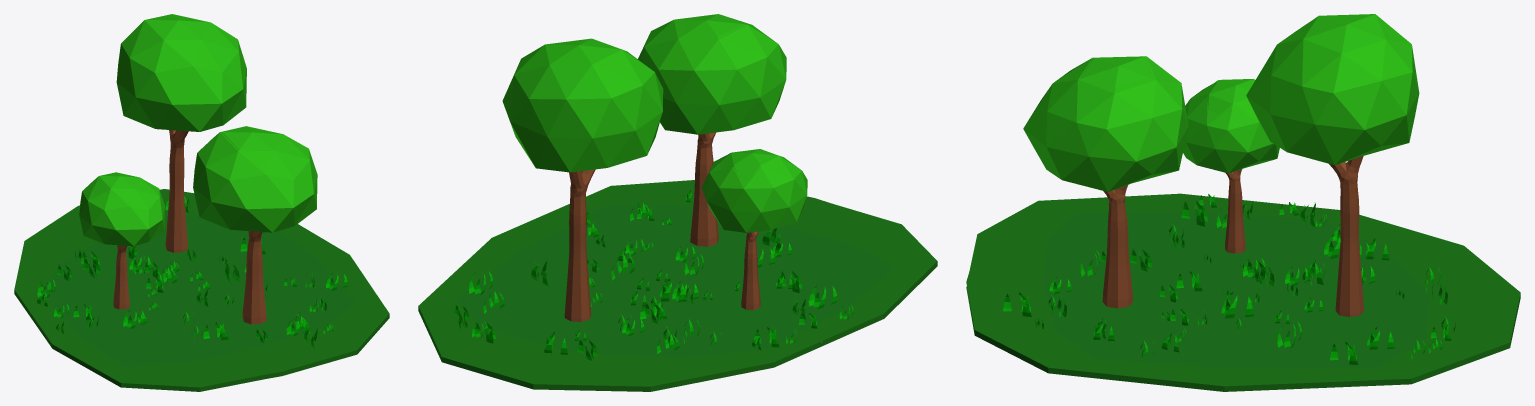
File: TreeGroup.glb
The picture shows the model from 3 angles, left to right: view 1: azimuth 30°, elevation 25°; view 2: azimuth 150°, elevation 25°; view 3: azimuth 270°, elevation 25°; orthographic projection. The views are drawn at different scales.
Visible parts, largest first — view 1: Plane018_1, Plane018, Icosphere001, Icosphere002, Icosphere, Plane002, Plane003, Icosphere003, Icosphere004, Plane001; view 2: Plane018_1, Plane018, Icosphere001, Icosphere002, Icosphere, Plane002, Plane003, Icosphere003, Plane001, Icosphere004; view 3: Plane018_1, Plane018, Icosphere001, Icosphere002, Icosphere, Plane002, Plane003, Icosphere004, Icosphere003, Plane001.
Boxes of the visible parts, x1,y1,x2,y2 form: Plane018_1: [41, 214, 356, 366]; Plane018: [14, 189, 389, 391]; Icosphere001: [116, 14, 246, 131]; Icosphere002: [193, 126, 317, 232]; Icosphere: [79, 178, 164, 246]; Plane002: [165, 130, 188, 252]; Plane003: [242, 231, 266, 324]; Icosphere003: [92, 172, 149, 202]; Icosphere004: [222, 127, 280, 150]; Plane001: [113, 245, 129, 309]; Plane018_1: [456, 206, 895, 358]; Plane018: [418, 180, 937, 391]; Icosphere001: [502, 38, 663, 172]; Icosphere002: [638, 14, 786, 134]; Icosphere: [701, 154, 807, 232]; Plane002: [564, 169, 595, 321]; Plane003: [690, 132, 718, 246]; Icosphere003: [720, 149, 786, 230]; Plane001: [741, 231, 760, 310]; Icosphere004: [678, 14, 744, 37]; Plane018_1: [1043, 211, 1430, 368]; Plane018: [966, 193, 1520, 391]; Icosphere001: [1246, 14, 1419, 165]; Icosphere002: [1023, 56, 1188, 191]; Icosphere: [1183, 84, 1279, 173]; Plane002: [1329, 156, 1363, 316]; Plane003: [1102, 185, 1132, 308]; Icosphere004: [1081, 56, 1150, 90]; Icosphere003: [1195, 79, 1273, 172]; Plane001: [1225, 169, 1245, 253].
Size of the model in its own units: 3.89 by 2.91 by 4.73.
